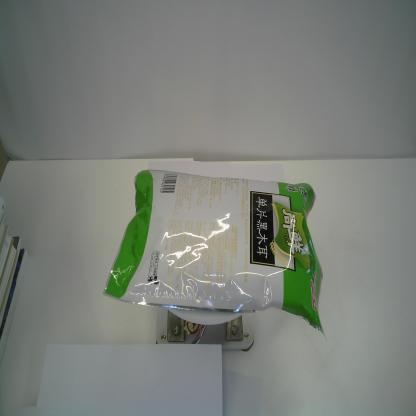Dried Food: (101, 167, 330, 344)
